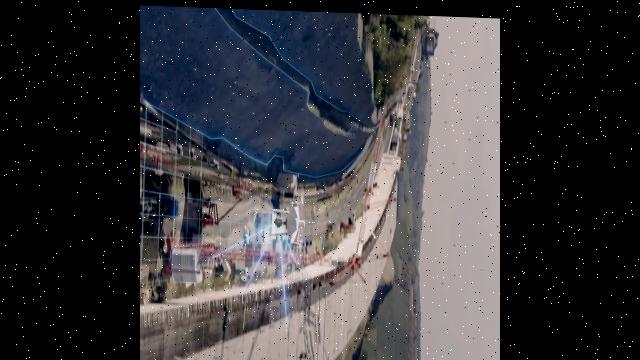drone: (268, 185, 308, 251)
